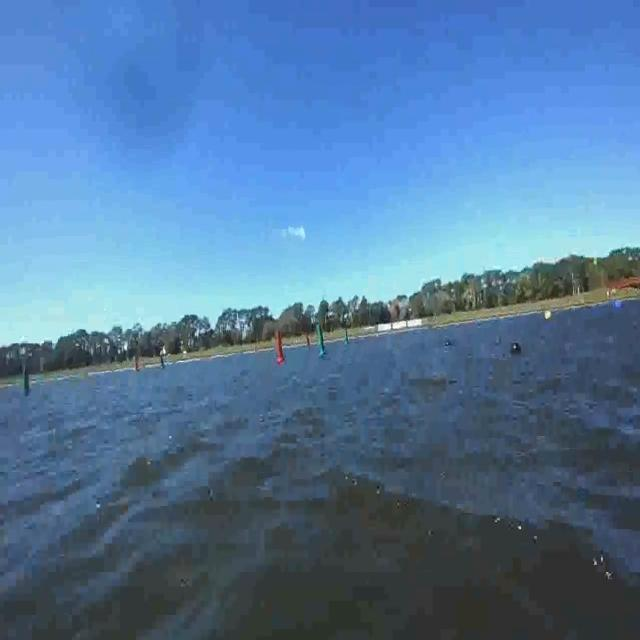black-buoy: (511, 343, 523, 355)
blue-buoy: (614, 299, 625, 314)
green-column-buoy: (316, 324, 327, 357), (21, 365, 31, 395), (345, 325, 351, 345), (162, 352, 168, 369)
red-column-buoy: (274, 330, 287, 366), (135, 352, 142, 373), (306, 331, 312, 350)
yellow-buoy: (542, 309, 552, 323)
